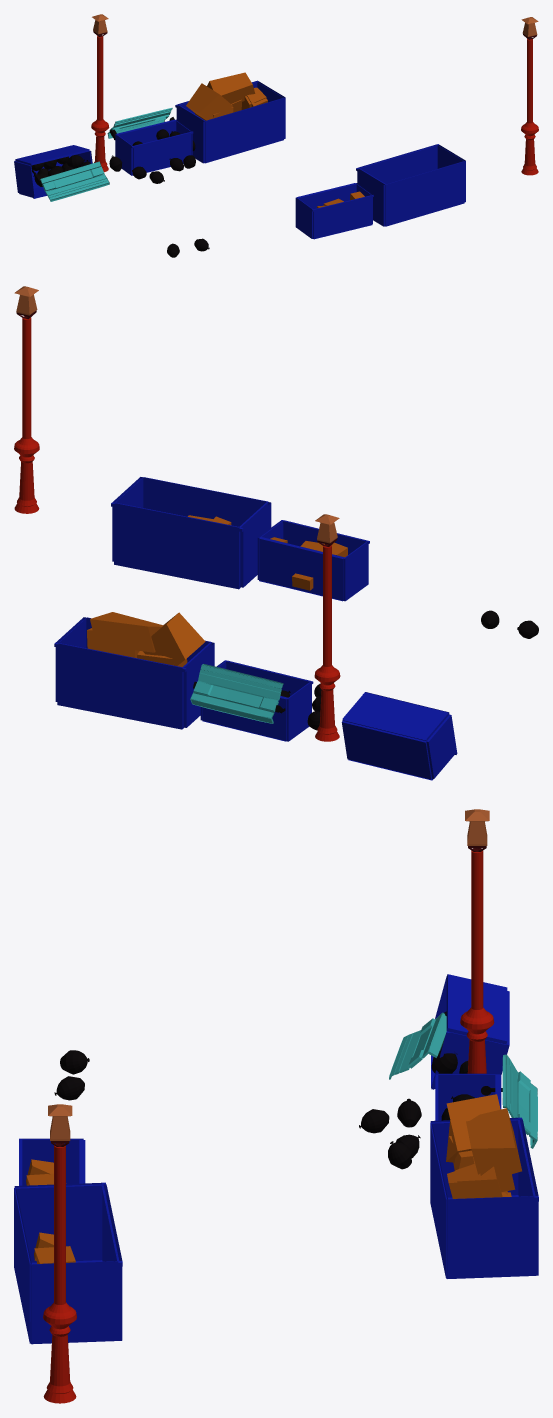
The picture shows the model from 3 angles, top to bottom: view 1: azimuth 30°, elevation 25°; view 2: azimuth 150°, elevation 25°; view 3: azimuth 270°, elevation 25°; orthographic projection. The views are drawn at different scales.
Parts seen in each view (by area): view 1: groupe_conteneur.001_Cube.001, cartons.001_Cube.023, sac_poubelle_Circle, couvercle_Plane.003, poteau_base_2_Circle.005, poteau_base_Circle.006, Plane; view 2: groupe_conteneur.001_Cube.001, cartons.001_Cube.023, Plane, poteau_base_2_Circle.005, poteau_base_Circle.006, sac_poubelle_Circle, cartons_Cube.010; view 3: groupe_conteneur.001_Cube.001, cartons.001_Cube.023, poteau_base_2_Circle.005, sac_poubelle_Circle, poteau_base_Circle.006, Plane, couvercle_Plane.003, cartons_Cube.010, ampoule.001_Plane.007, ampoule_Plane.006.
Part boxes in pixels (x1=…): groupe_conteneur.001_Cube.001: x1=14, y1=80, x2=465, y2=239; cartons.001_Cube.023: x1=186, y1=72, x2=267, y2=120; sac_poubelle_Circle: x1=31, y1=117, x2=209, y2=257; couvercle_Plane.003: x1=40, y1=161, x2=109, y2=201; poteau_base_2_Circle.005: x1=521, y1=39, x2=538, y2=175; poteau_base_Circle.006: x1=91, y1=36, x2=109, y2=172; Plane: x1=107, y1=108, x2=172, y2=138; groupe_conteneur.001_Cube.001: x1=54, y1=477, x2=457, y2=780; cartons.001_Cube.023: x1=87, y1=612, x2=205, y2=667; Plane: x1=190, y1=664, x2=283, y2=723; poteau_base_2_Circle.005: x1=14, y1=317, x2=39, y2=513; poteau_base_Circle.006: x1=314, y1=545, x2=340, y2=741; sac_poubelle_Circle: x1=193, y1=610, x2=538, y2=730; cartons_Cube.010: x1=188, y1=515, x2=347, y2=590; groupe_conteneur.001_Cube.001: x1=14, y1=974, x2=538, y2=1344; cartons.001_Cube.023: x1=446, y1=1094, x2=521, y2=1198; poteau_base_2_Circle.005: x1=43, y1=1145, x2=76, y2=1403; sac_poubelle_Circle: x1=54, y1=1011, x2=502, y2=1169; poteau_base_Circle.006: x1=460, y1=850, x2=494, y2=1073; Plane: x1=502, y1=1054, x2=537, y2=1148; couvercle_Plane.003: x1=389, y1=1012, x2=446, y2=1079; cartons_Cube.010: x1=26, y1=1159, x2=75, y2=1263; ampoule.001_Plane.007: x1=465, y1=809, x2=489, y2=845; ampoule_Plane.006: x1=48, y1=1104, x2=72, y2=1140.
Size of the model in its own units: 30.65 by 11.76 by 18.16.
